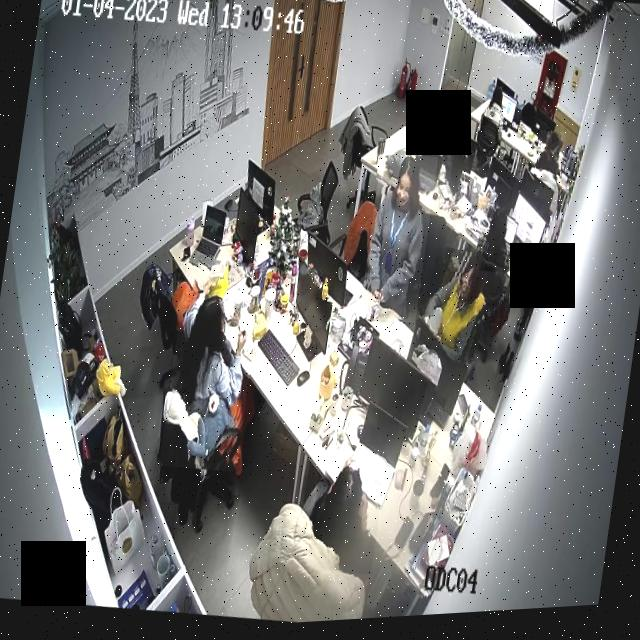person: (159, 257, 265, 479), (359, 155, 439, 331), (306, 451, 388, 583), (416, 250, 498, 372), (474, 212, 517, 281), (534, 136, 566, 187), (483, 88, 509, 134)
